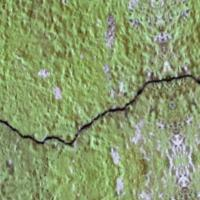crack: (0, 73, 199, 162)
